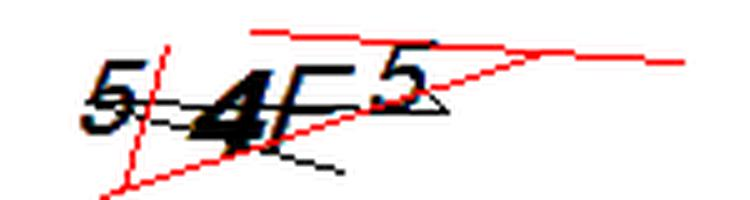4: (179, 64, 279, 162)
5: (367, 31, 448, 131), (75, 51, 157, 141)
F: (257, 56, 359, 164)
